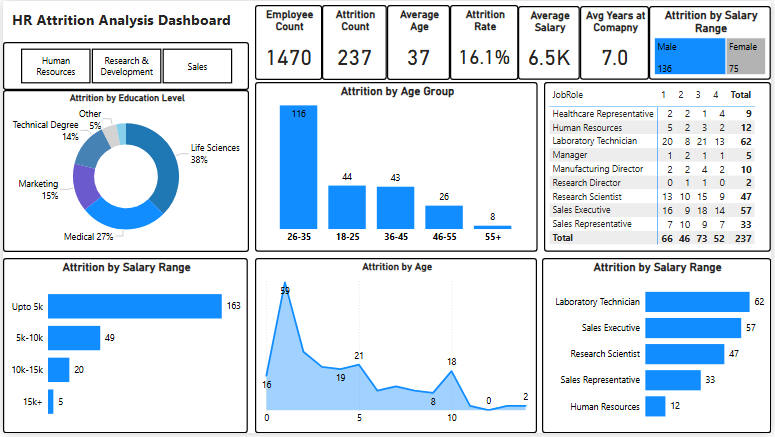

This screenshot's page, from the dashboard's own definition file:
{"tool":"powerbi","page":{"name":"Page 1","canvas":[1280,720],"ordinal":0},"visuals":[{"type":"card","title":"Employee Count","fields":{"Values":["Sum(HR_Analytics.EmployeeCount)"]},"box":[420,6.7,111.7,125],"z":0},{"type":"card","title":"Attrition Count","fields":{"Values":["Sum(HR_Analytics.Attrition_Count)"]},"box":[532.3,6.2,107.7,124.6],"z":1000},{"type":"card","title":"Attrition Rate","fields":{"Values":["HR_Analytics.Attrition_Rate"]},"box":[744.6,6.2,113.8,124.6],"z":2000},{"type":"card","title":"Average Age","fields":{"Values":["Avg(HR_Analytics.Age)"]},"box":[640,6.2,104.6,124.6],"z":3000},{"type":"card","title":"Average Salary","fields":{"Values":["Avg(HR_Analytics.MonthlyIncome)"]},"box":[858.5,7.7,103.1,123.1],"z":4000},{"type":"card","title":"Avg Years at Comapny","fields":{"Values":["Avg(HR_Analytics.YearsAtCompany)"]},"box":[961.5,7.7,115.4,123.1],"z":5000},{"type":"donutChart","title":"Attrition by Education Level","fields":{"Y":["Sum(HR_Analytics.Attrition_Count)"],"Category":["HR_Analytics.EducationField"]},"box":[0,148.3,410,270],"z":6000},{"type":"columnChart","title":"Attrition by Age Group","fields":{"Category":["HR_Analytics.AgeGroup"],"Y":["Sum(HR_Analytics.Attrition_Count)"]},"box":[420,135.4,470.8,283.1],"z":7000},{"type":"pivotTable","fields":{"Values":["Sum(HR_Analytics.Attrition_Count)"],"Columns":["HR_Analytics.JobSatisfaction"],"Rows":["HR_Analytics.JobRole"]},"box":[901.7,135,378.3,283.3],"z":8000},{"type":"barChart","title":"Attrition by Salary Range","fields":{"Category":["HR_Analytics.SalarySlab"],"Y":["Sum(HR_Analytics.Attrition_Count)"]},"box":[0,428.3,408.3,291.7],"z":9000},{"type":"treemap","title":"Attrition by Salary Range","fields":{"Group":["HR_Analytics.Gender","HR_Analytics.JobRole"],"Values":["Sum(HR_Analytics.Attrition_Count)"]},"box":[1076.7,8.3,203.3,123.3],"z":10000},{"type":"areaChart","title":"Attrition by Age ","fields":{"Y":["Sum(HR_Analytics.Attrition_Count)"],"Category":["HR_Analytics.YearsAtCompany"]},"box":[420,428.3,470,291.7],"z":11000},{"type":"barChart","title":"Attrition by Salary Range","fields":{"Category":["HR_Analytics.JobRole"],"Y":["Sum(HR_Analytics.Attrition_Count)"]},"box":[898.3,428.3,381.7,291.7],"z":12000},{"type":"slicer","fields":{"Values":["HR_Analytics.Department"]},"box":[0,68.3,410,80],"z":13000},{"type":"textbox","box":[9.2,7.7,401.5,47.7],"z":14000}]}

Visuals, with their boxes in screenshot pixels (x1, y1, x2, y2), scaled from the page's 1280x720 canvas onto the 775x437 screenshot:
"Employee Count" card: 254, 4, 322, 80
"Attrition Count" card: 322, 4, 388, 79
"Attrition Rate" card: 451, 4, 520, 79
"Average Age" card: 388, 4, 451, 79
"Average Salary" card: 520, 5, 582, 79
"Avg Years at Comapny" card: 582, 5, 652, 79
"Attrition by Education Level" donutChart: 0, 90, 248, 254
"Attrition by Age Group" columnChart: 254, 82, 539, 254
pivotTable - Sum(HR_Analytics.Attrition_Count) x HR_Analytics.JobSatisfaction: 546, 82, 774, 254
"Attrition by Salary Range" barChart: 0, 260, 247, 436
"Attrition by Salary Range" treemap: 652, 5, 774, 80
"Attrition by Age " areaChart: 254, 260, 539, 436
"Attrition by Salary Range" barChart: 544, 260, 774, 436
slicer - HR_Analytics.Department: 0, 41, 248, 90
textbox: 6, 5, 249, 34
